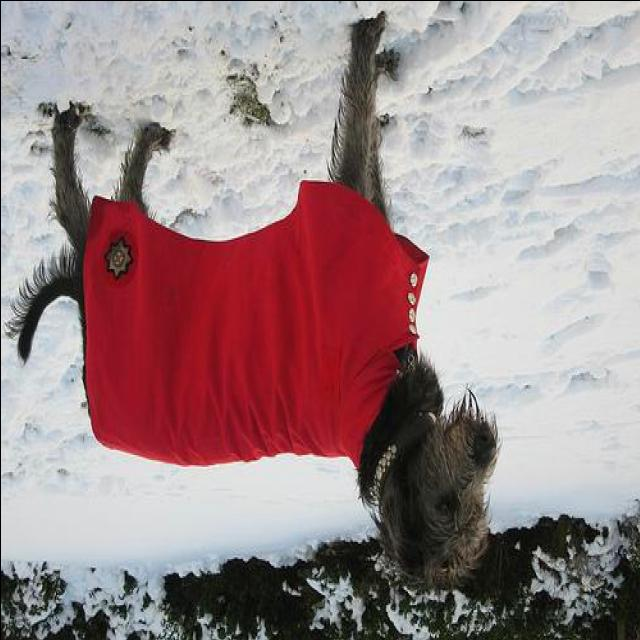irish_wolfhound: (1, 20, 528, 598)
